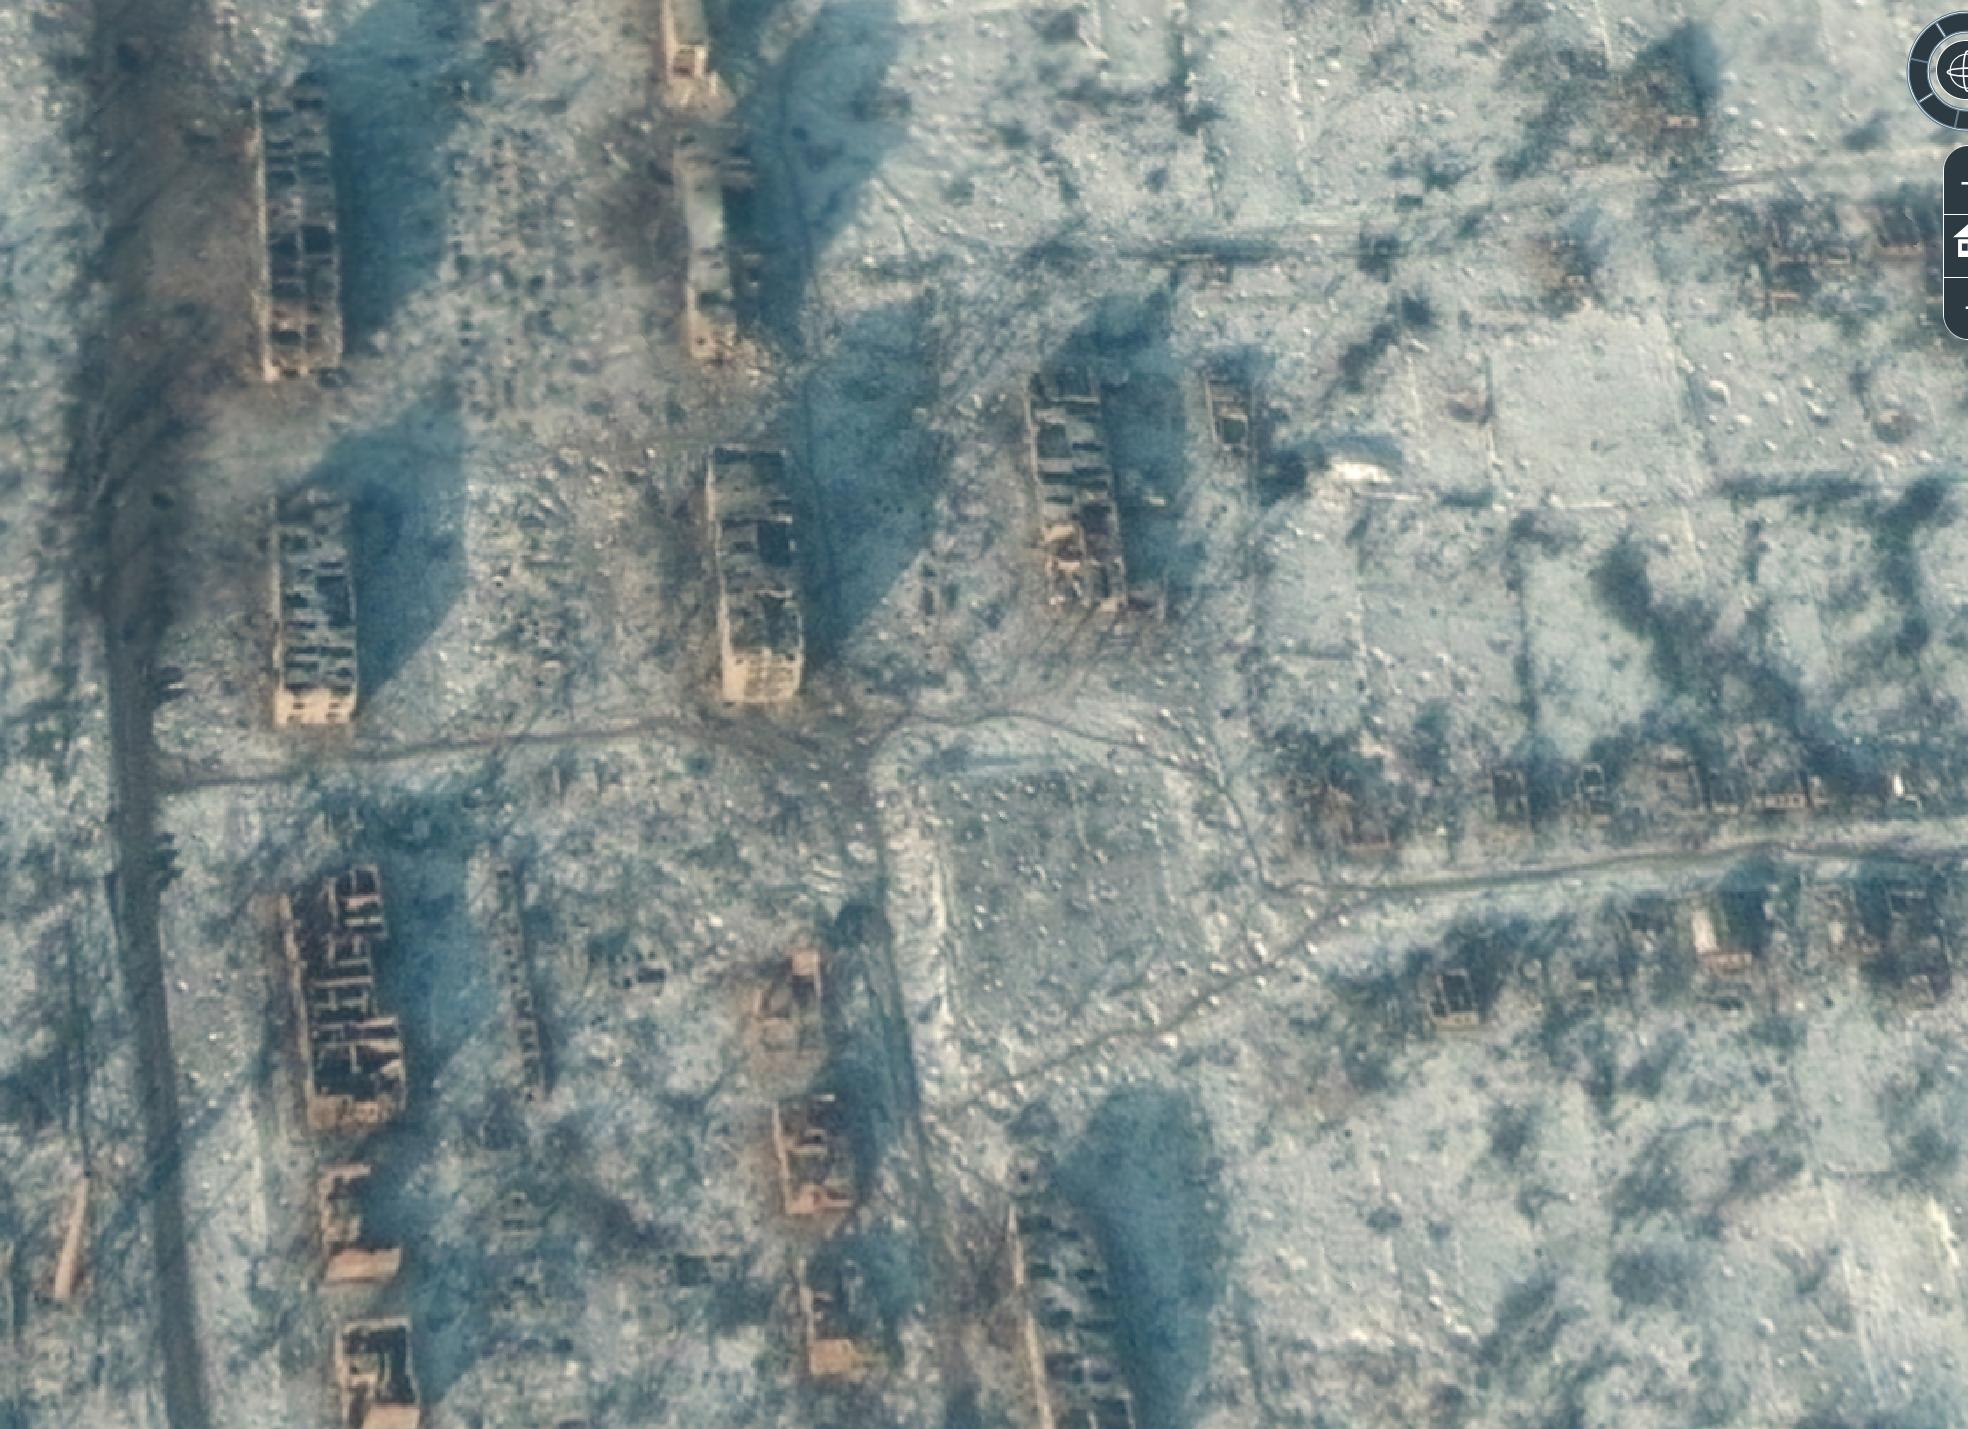demaged-building-high: (973, 1155, 1170, 1429), (266, 853, 435, 1139), (686, 442, 842, 740), (1013, 333, 1152, 637), (235, 83, 365, 388), (666, 124, 798, 373), (261, 471, 370, 741)
